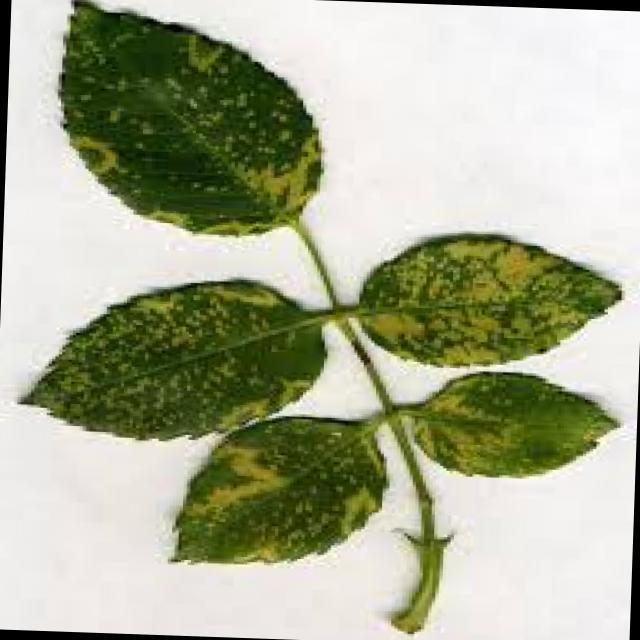Mosaic Virus: (48, 0, 324, 261), (50, 271, 321, 435), (171, 414, 395, 568), (380, 242, 628, 360), (403, 376, 614, 484)
